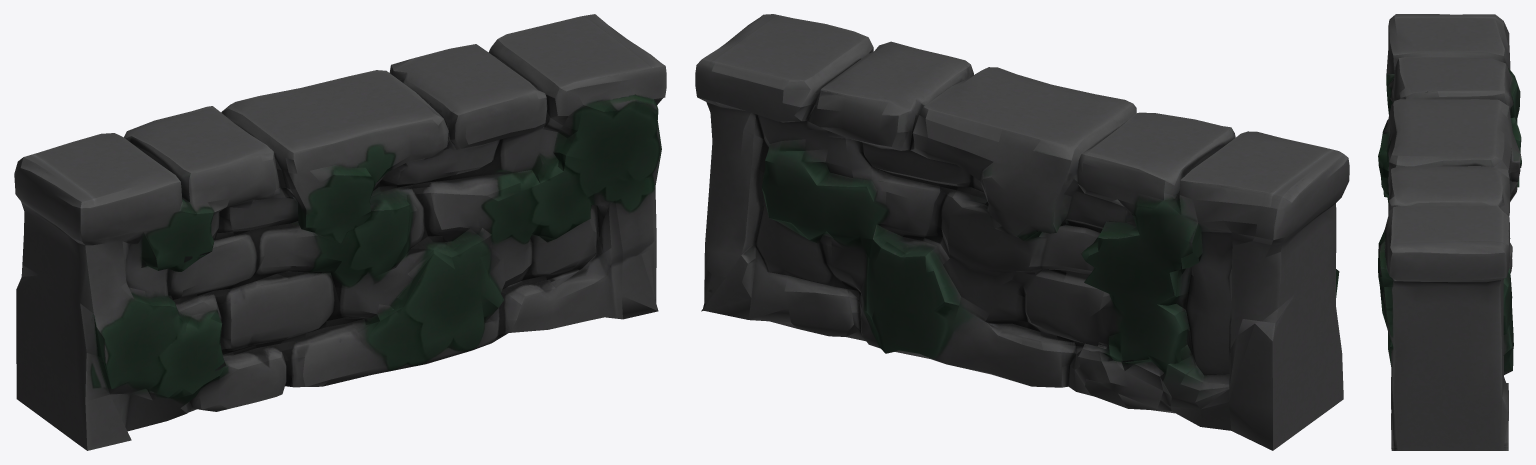
The model's file is wh-wall-vinestone-a.glb.
3 views of the same model, side by side, from view 1: azimuth 30°, elevation 25°; view 2: azimuth 150°, elevation 25°; view 3: azimuth 270°, elevation 25° (orthographic). The views are drawn at different scales.
Size of the model in its own units: 1.9 by 0.7698 by 0.4857.
Materials: 1 (1 with a texture image).
